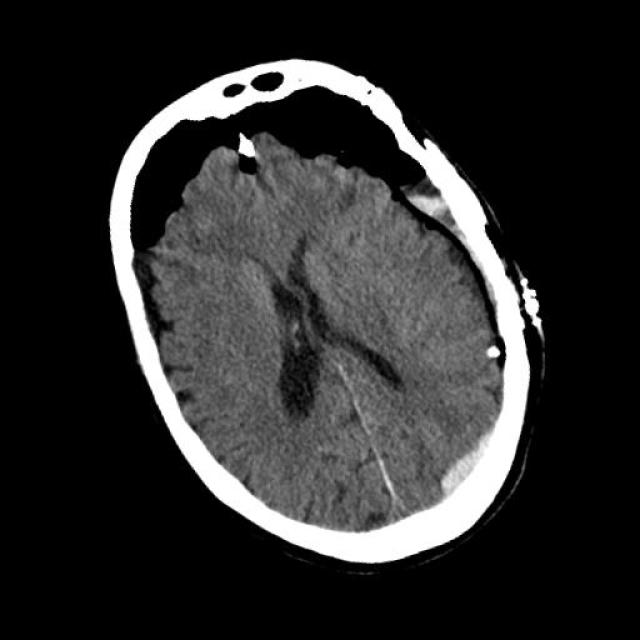Subdural: (412, 396, 546, 518)
